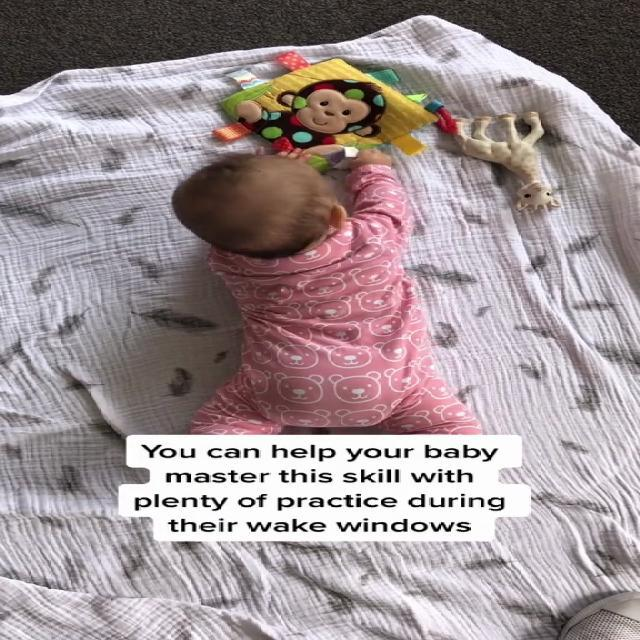baby: (148, 140, 491, 437)
